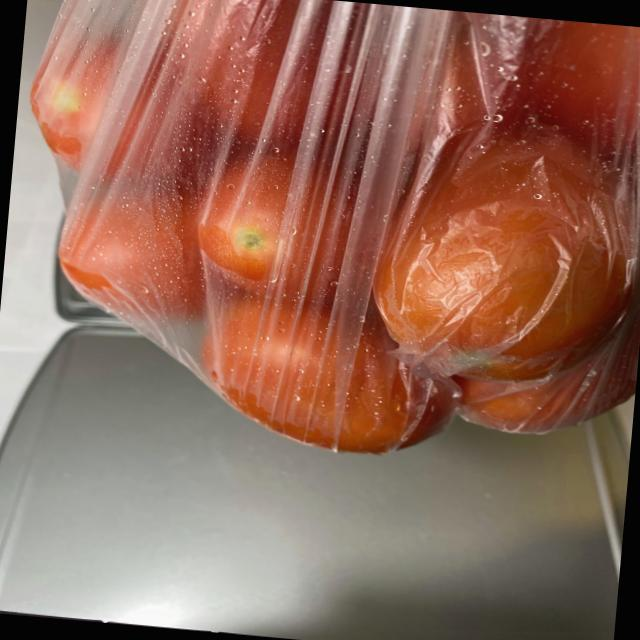tomato: (7, 0, 640, 481)
